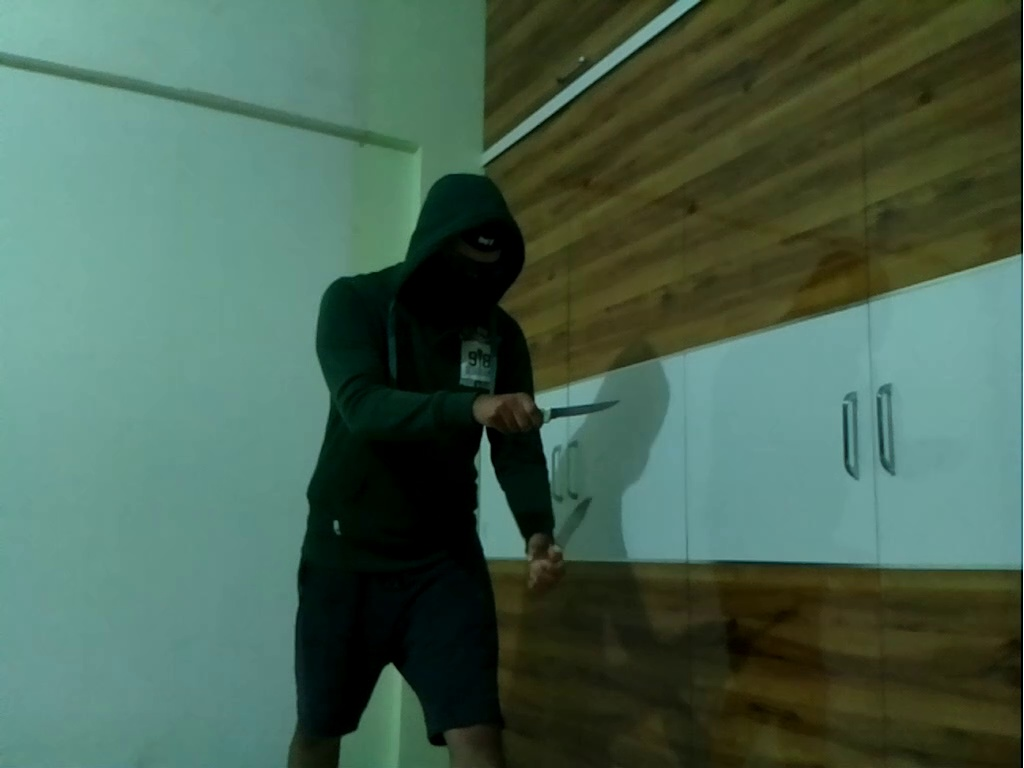knife: (541, 492, 592, 574), (517, 398, 631, 426)
